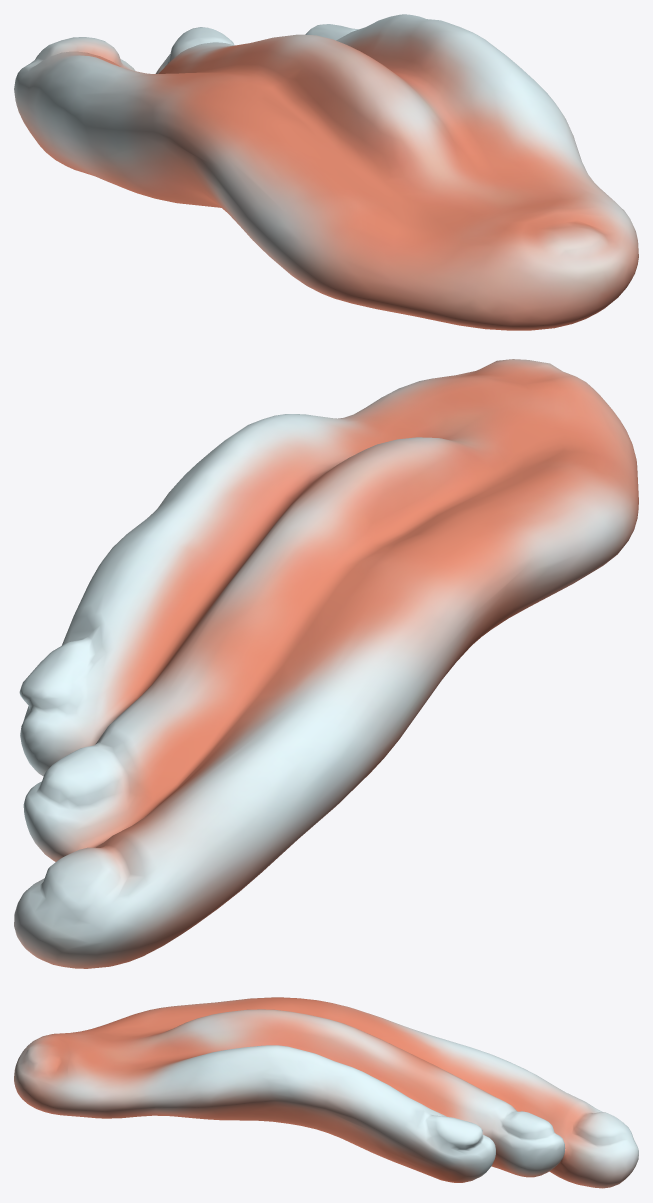
The model's file is interlocking-8.glb.
3 views of the same model, one above another, from view 1: azimuth 30°, elevation 25°; view 2: azimuth 150°, elevation 25°; view 3: azimuth 270°, elevation 25° (orthographic). The views are drawn at different scales.
Visible parts, largest first — view 1: Interlocking8; view 2: Interlocking8; view 3: Interlocking8.
Boxes of the visible parts, box(x1,y1,x2,y2) form: Interlocking8: box(14, 14, 638, 330); Interlocking8: box(14, 359, 638, 968); Interlocking8: box(14, 997, 638, 1188).
Size of the model in its own units: 0.00978 by 0.00802 by 0.0262.
Materials: 1 (1 with a texture image).
